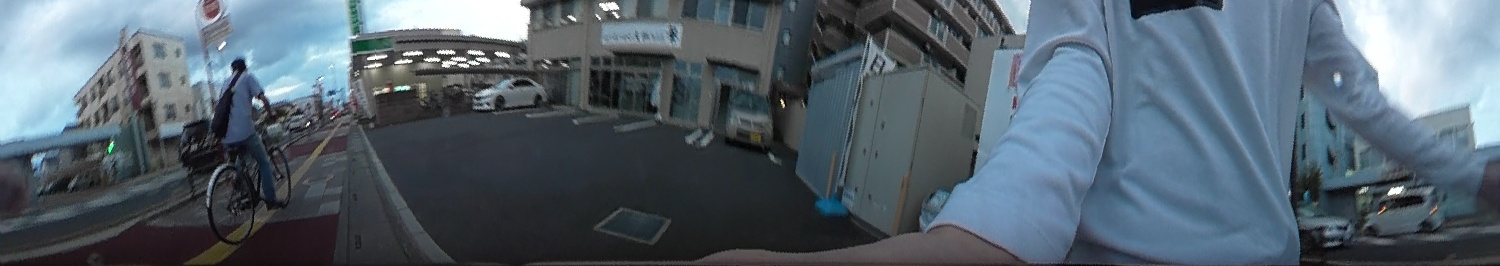person: (211, 54, 282, 211)
